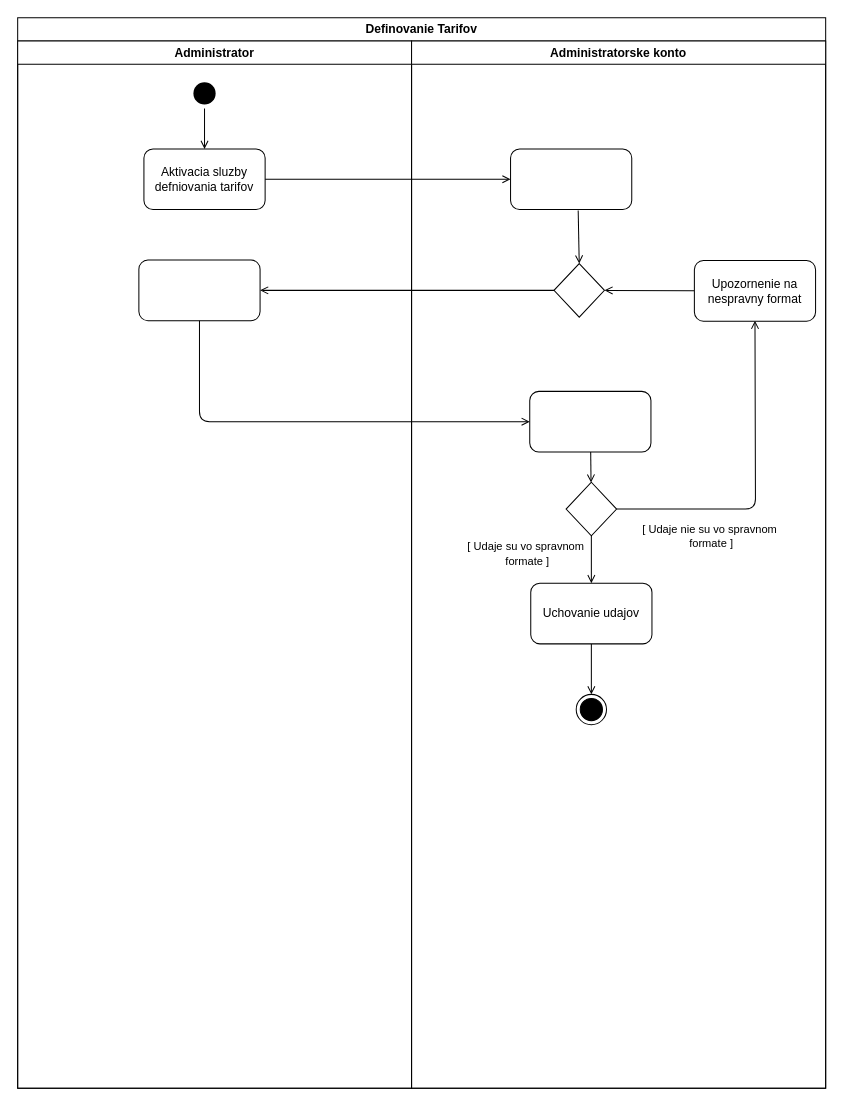
Image size: 843x1106. Some labels were removed from this diagram. Each missing label, with the centre of its shape:
"Overovanie udajov" goes at point 590,421.
"Poskytnutie udajov tarifu" goes at point 199,290.
"Pozadovanie udajov tarifu" goes at point 571,179.
